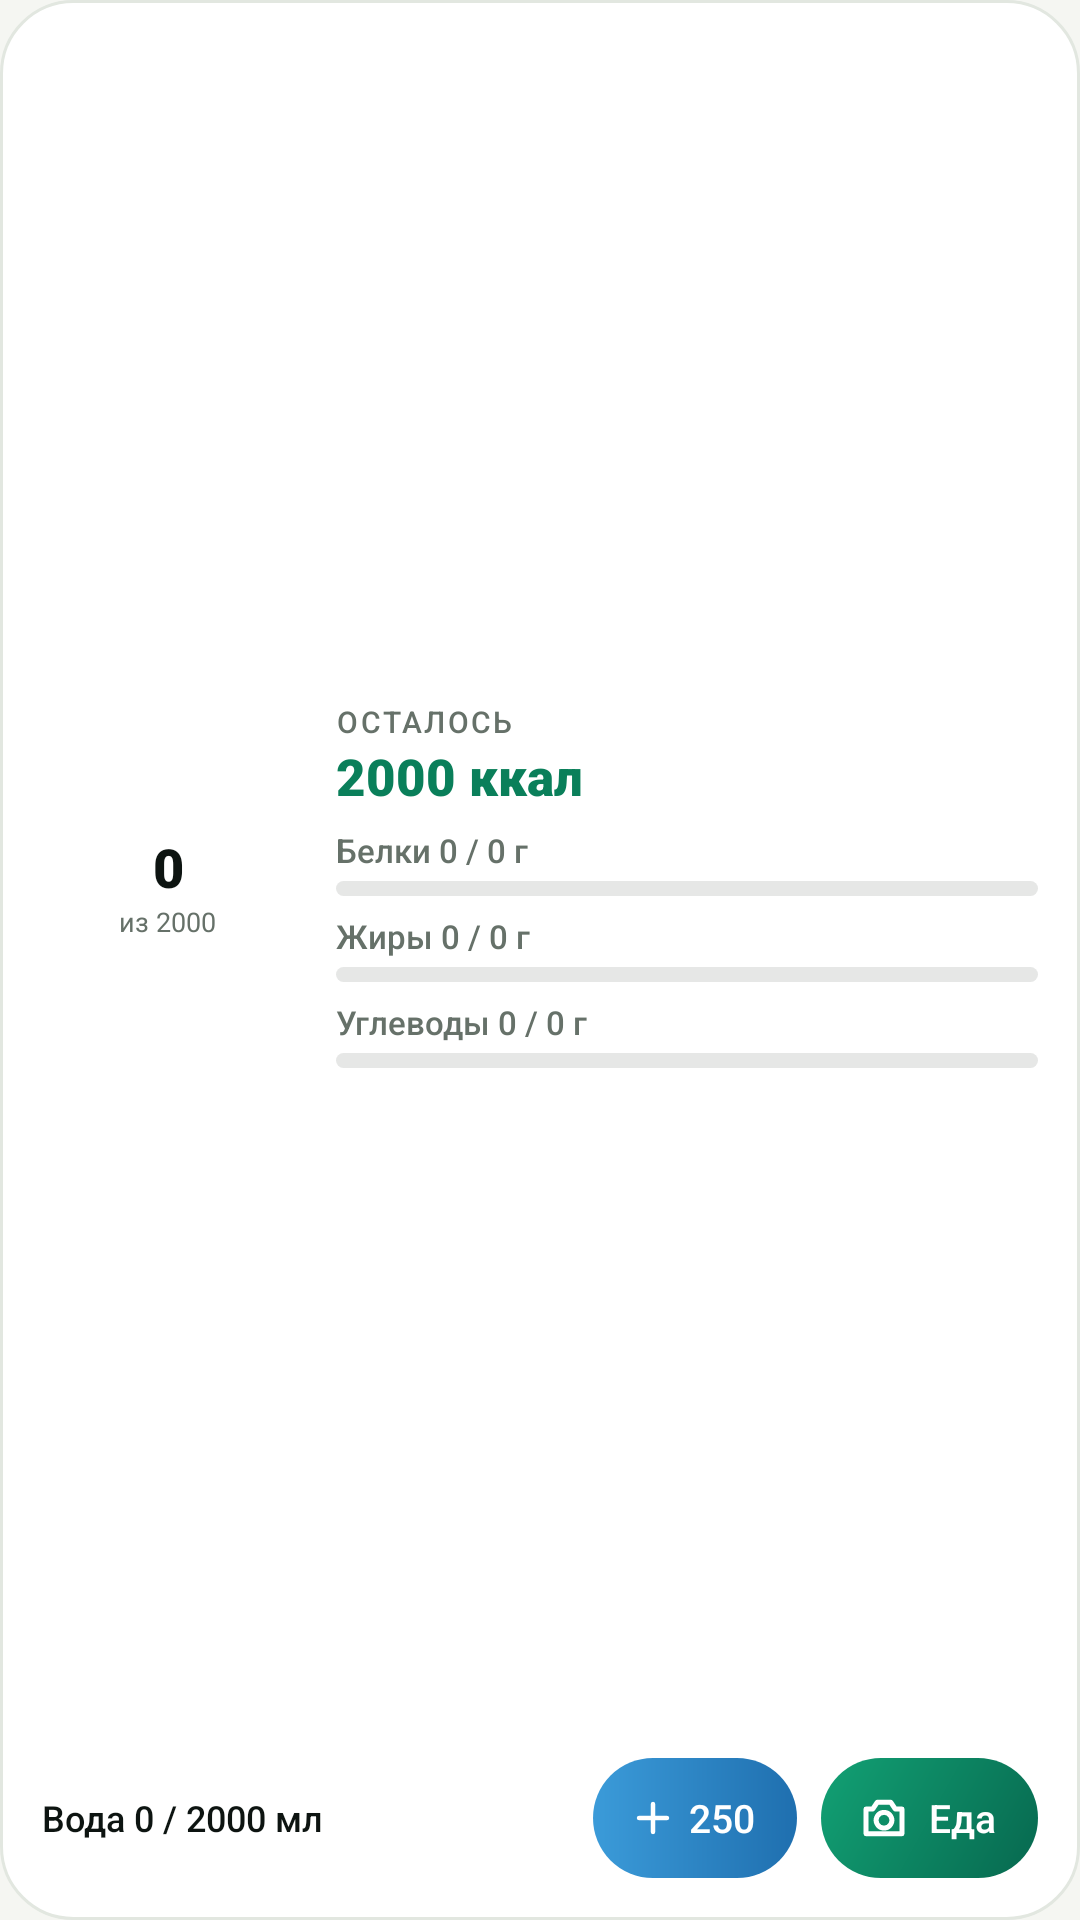

Icon click points for this 1080w x 1920h phone screenshot, format (x,y):
camera: (884,1818)
plus: (653,1818)
